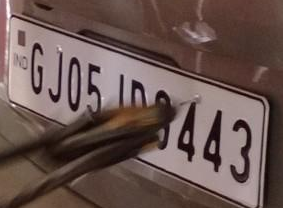0: (65, 55, 83, 114)
3: (229, 118, 252, 184)
4: (202, 109, 224, 174), (177, 102, 198, 164)
5: (86, 61, 103, 119)
G: (29, 41, 46, 95)
J: (47, 50, 64, 104)
